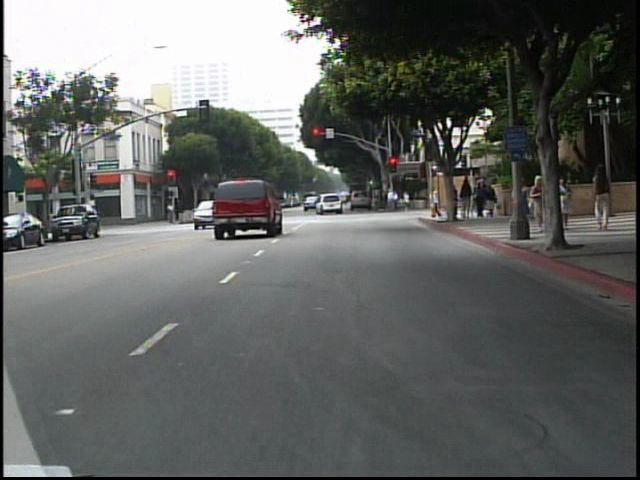person: (590, 166, 615, 233), (528, 174, 545, 239), (557, 174, 575, 235), (458, 177, 475, 223), (429, 187, 444, 220), (166, 200, 178, 229)
